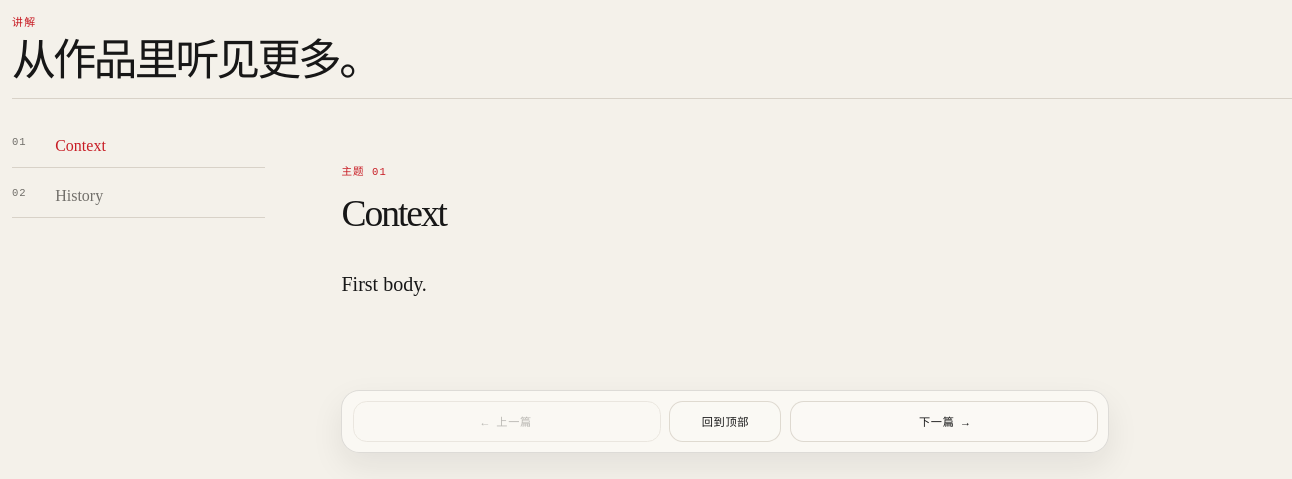
Test: ExplainWorkspace › keeps Feature failures local and offers retry for the selected topic
Expected: the text "First body." is shown, left=342, top=273, right=427, bottom=295
Click the button "02 History" at (138, 196), box left=12, top=173, right=265, bottom=218
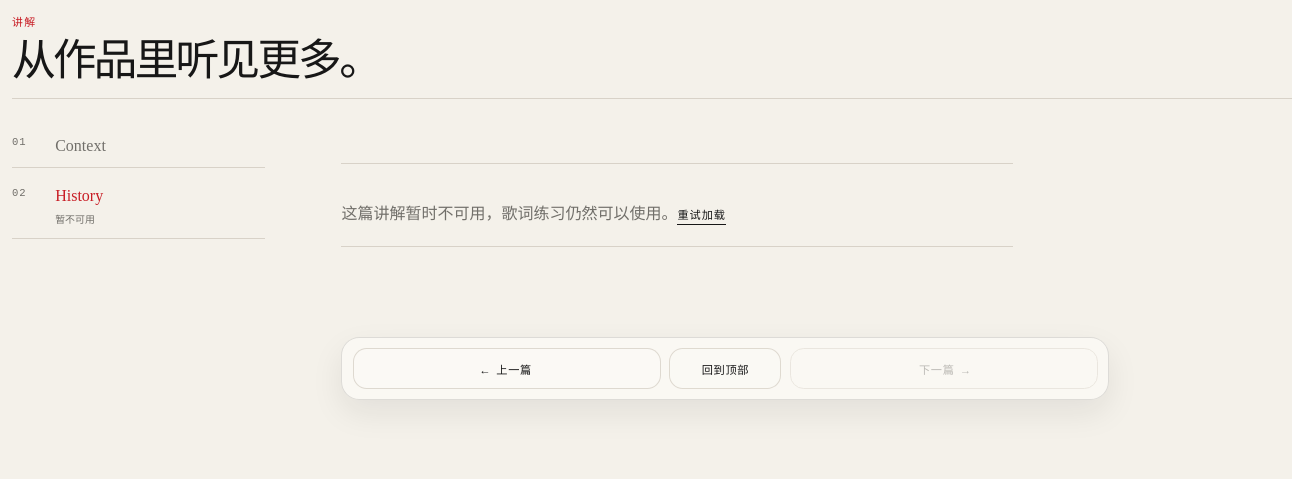
Expected: the text "这篇讲解暂时不可用，歌词练习仍然可以使用。" is shown, left=342, top=203, right=678, bottom=223
Click the button "重试加载" at (702, 216), box left=678, top=208, right=726, bottom=225
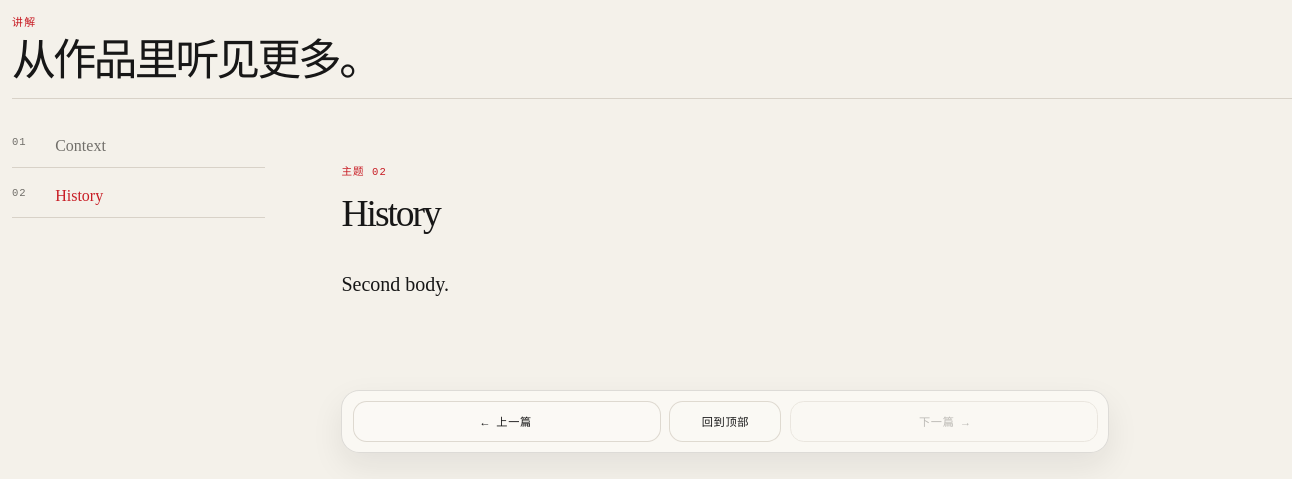
Expected: the text "Second body." is shown, left=342, top=273, right=449, bottom=295
